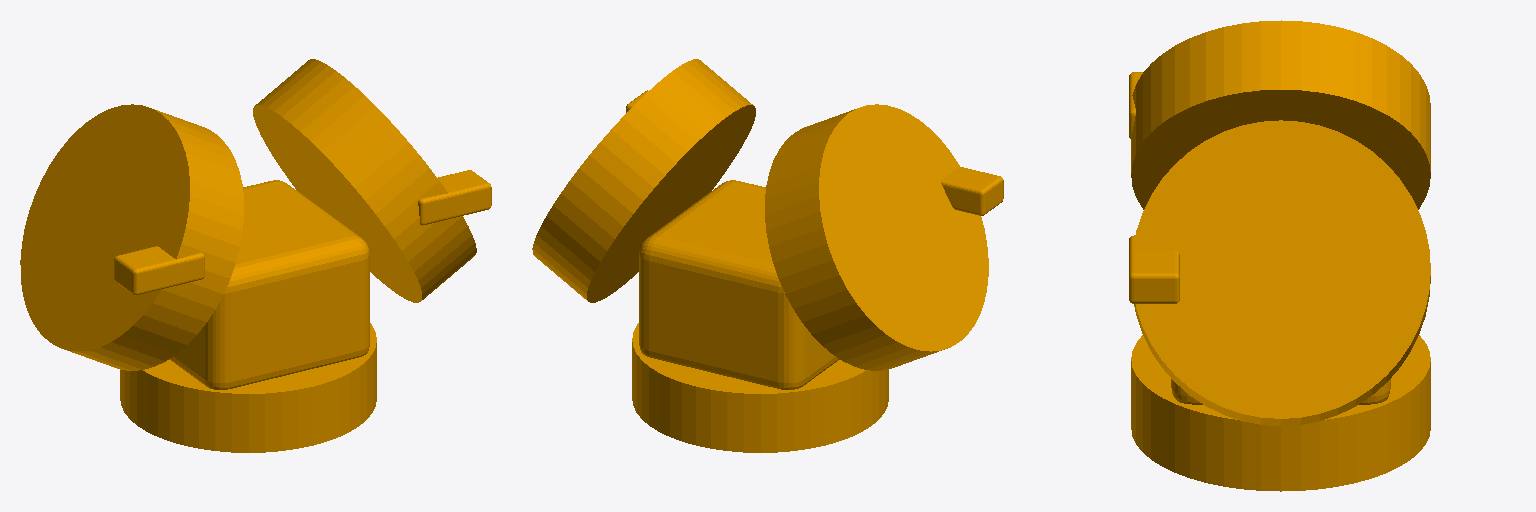
The robot description file, URDF, robot "onrobot_dual_quick_changer_109878":
<?xml version="1.0"?>
<robot name="onrobot_dual_quick_changer_109878">
<link name="mount"><visual ><geometry ><mesh filename="../meshes/mount.obj"/></geometry></visual><collision ><origin xyz="0 0 0.009" rpy="0 0 0"/><geometry ><cylinder radius="0.0355" length="0.018"/></geometry></collision><collision ><origin xyz="0 0 0.034" rpy="0 0 0"/><geometry ><box size="0.052 0.052 0.038"/></geometry></collision><collision ><origin xyz="0.0370897459622 0 0.0577560981657" rpy="0 1.0471975512 0"/><geometry ><cylinder radius="0.0355" length="0.02"/></geometry></collision><collision ><origin xyz="-0.0370897459622 0 0.0577560981657" rpy="0 -1.0471975512 0"/><geometry ><cylinder radius="0.0355" length="0.02"/></geometry></collision></link>
<link name="flange_a"></link>
<link name="flange_b"></link>
<joint name="flange_a_joint" type="fixed"><parent link="mount"/><child link="flange_a"/><origin xyz="0.04575 0 0.0627560981657" rpy="0 1.0471975512 0"/></joint>
<joint name="flange_b_joint" type="fixed"><parent link="mount"/><child link="flange_b"/><origin xyz="-0.04575 0 0.0627560981657" rpy="0 -1.0471975512 0"/></joint>
</robot>

--- What the picture shows (computed from the rendered views, not written in the file) ---
Views: 3 orthographic renders of the robot side by side, from view 1: azimuth 30°, elevation 25°; view 2: azimuth 150°, elevation 25°; view 3: azimuth 270°, elevation 25°.
Model onrobot_dual_quick_changer_109878 with 3 links and 2 joints (2 fixed), rooted at mount, posed all joints at 0.
Visible links, largest first — view 1: mount; view 2: mount; view 3: mount.
Boxes of the visible links, x1,y1,x2,y2 form: mount: [20, 59, 491, 452]; mount: [532, 59, 1003, 452]; mount: [1129, 20, 1430, 491].
Size in the robot's own frame: 0.127 by 0.0715 by 0.0935 metres.
Meshes: 1 distinct files referenced, 1 mesh visuals loaded (1 OBJ).
